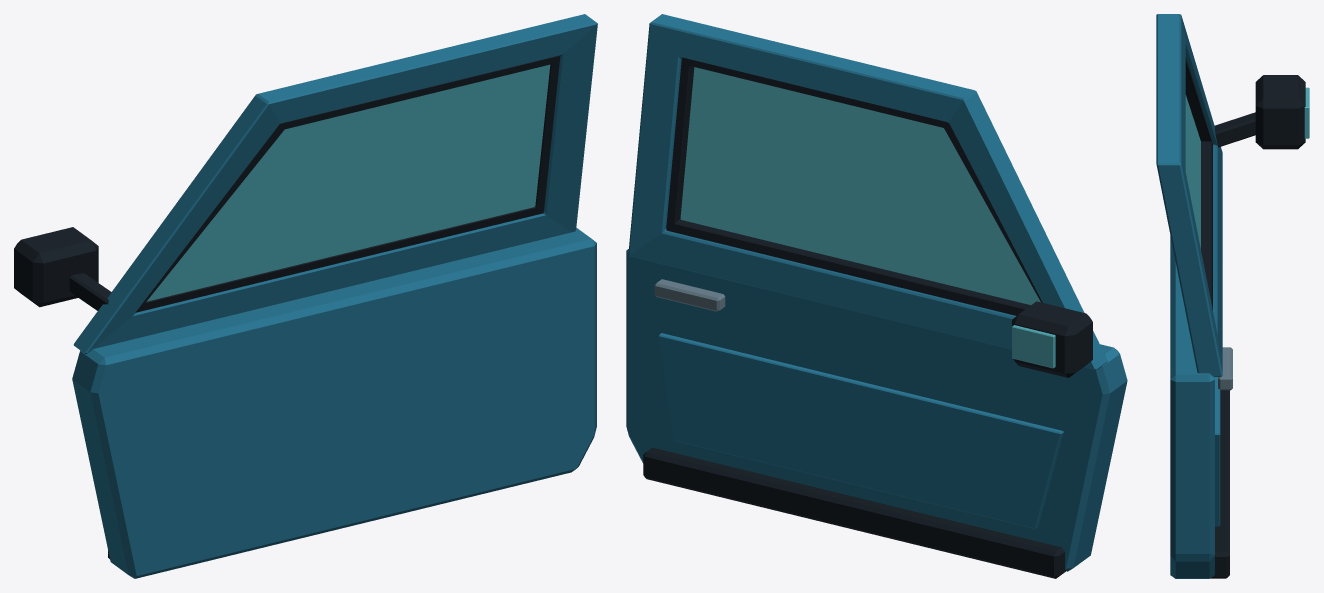
The model's file is QC_DoorR.fbx.
The picture shows the model from 3 angles, left to right: view 1: azimuth 30°, elevation 25°; view 2: azimuth 150°, elevation 25°; view 3: azimuth 270°, elevation 25°; orthographic projection. The views are drawn at different scales.
Parts seen in each view (by area): view 1: QC_DoorR; view 2: QC_DoorR; view 3: QC_DoorR.
Boxes of the visible parts, box(x1,y1,x2,y2) form: QC_DoorR: box(14, 14, 597, 578); QC_DoorR: box(626, 14, 1127, 578); QC_DoorR: box(1156, 14, 1309, 578).
Size of the model in its own units: 1.32 by 1.11 by 0.3633.
